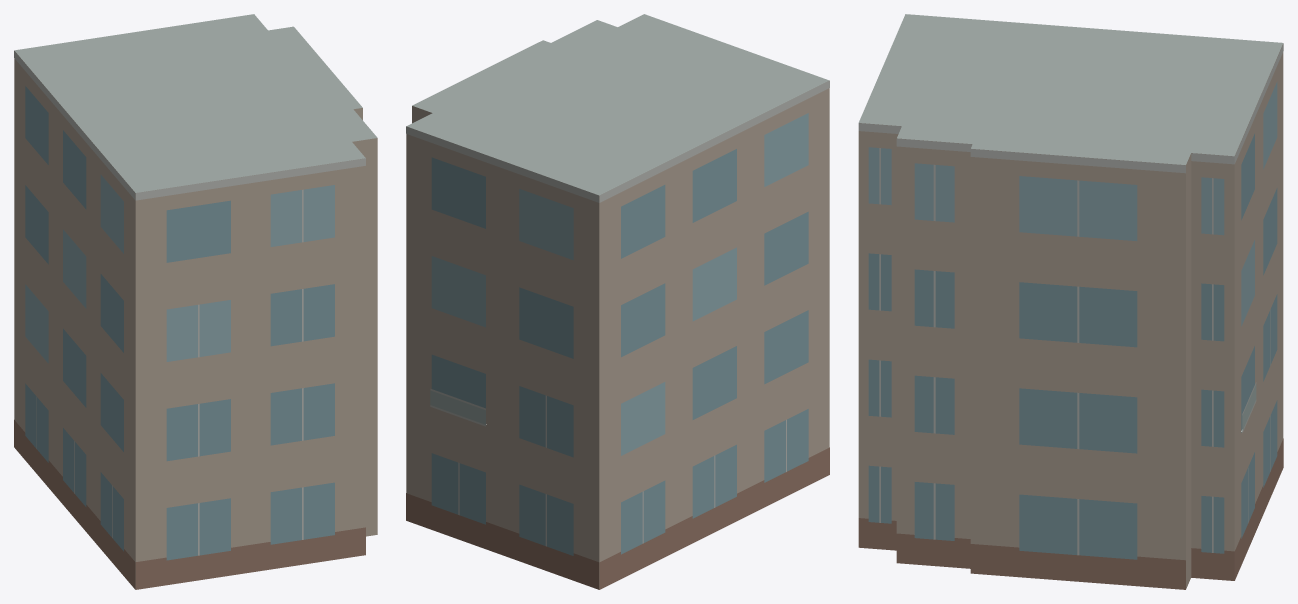
File: survey-upis-32649177.glb
3 renders of one model, left to right at view 1: azimuth 30°, elevation 25°; view 2: azimuth 150°, elevation 25°; view 3: azimuth 270°, elevation 25°, orthographic. The views are drawn at different scales.
Visible parts, largest first — view 1: survey-upis-32649177.tmp; view 2: survey-upis-32649177.tmp; view 3: survey-upis-32649177.tmp.
Part boxes in pixels (x1,y1,x2,y2): survey-upis-32649177.tmp: [14, 14, 377, 589]; survey-upis-32649177.tmp: [406, 14, 829, 589]; survey-upis-32649177.tmp: [858, 14, 1283, 589].
Bounding box in the file's own units: 9.78 × 12.8 × 11.62.
